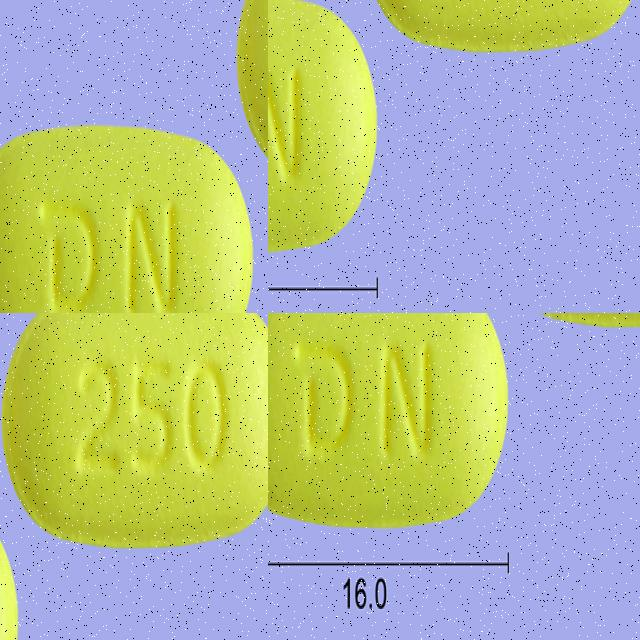Ciprofloxacin Hcl Tab- Arlico: (371, 0, 621, 261)
Clamicin: (5, 313, 268, 560)
Clamycin: (268, 313, 514, 534)
Clocin Film Coated Tab: (41, 217, 268, 313)
